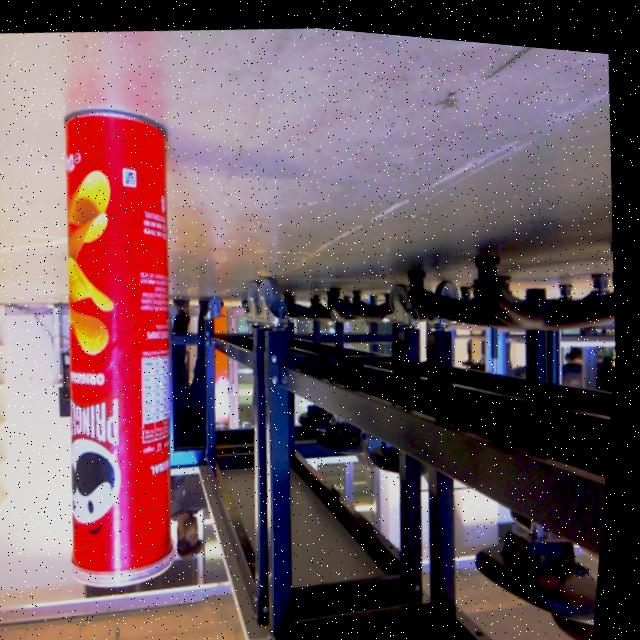redpringles: (21, 75, 234, 601)
